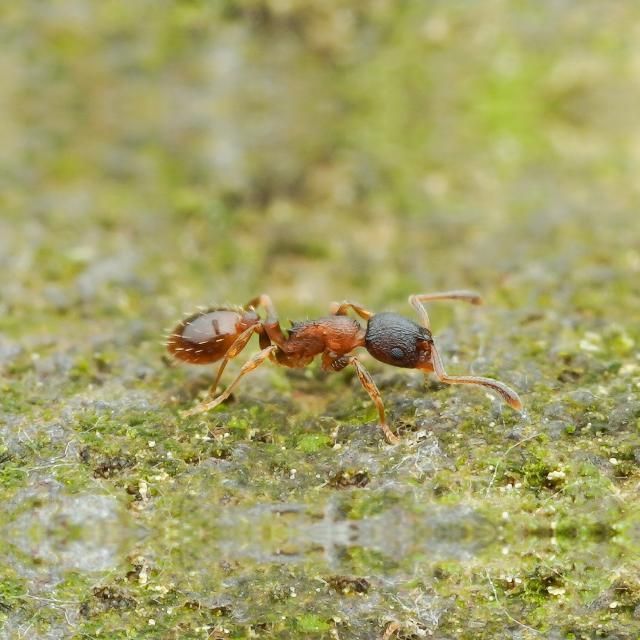Temnothorax: (150, 281, 476, 415)
